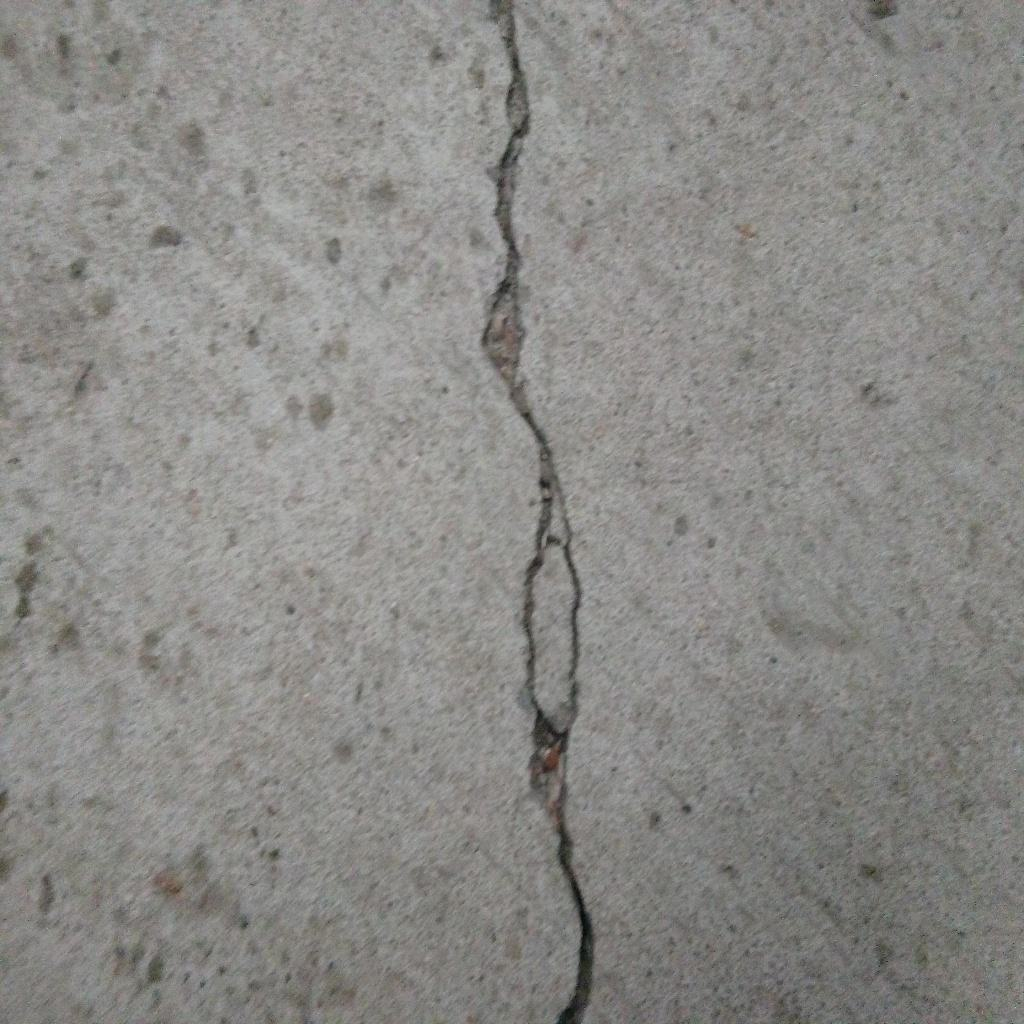Crack: (479, 1, 594, 1024)
